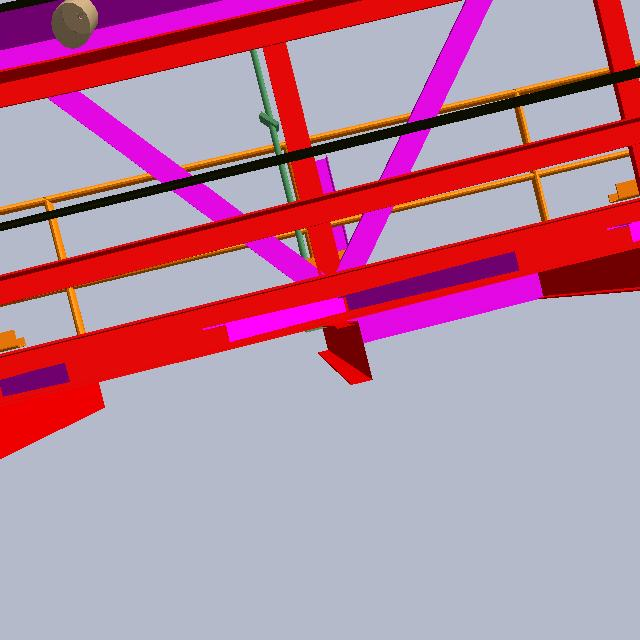Poste: (234, 45, 309, 285), (311, 146, 351, 289)
